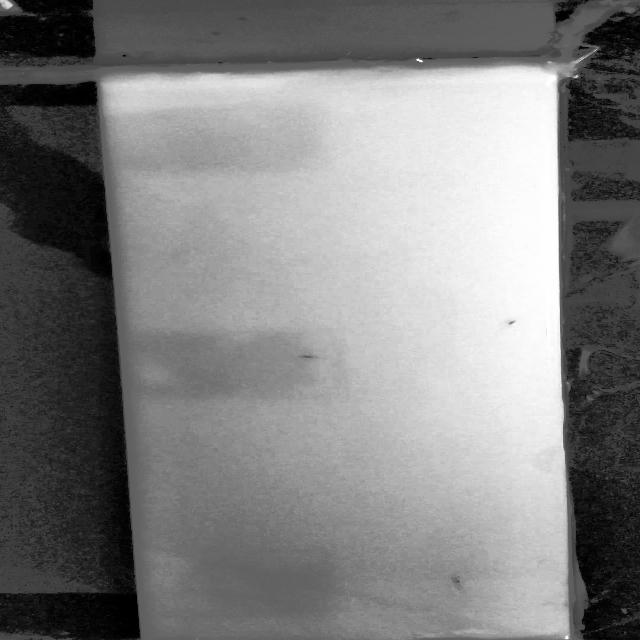shrimp: (448, 574, 473, 595), (296, 350, 327, 364), (499, 316, 526, 328)
